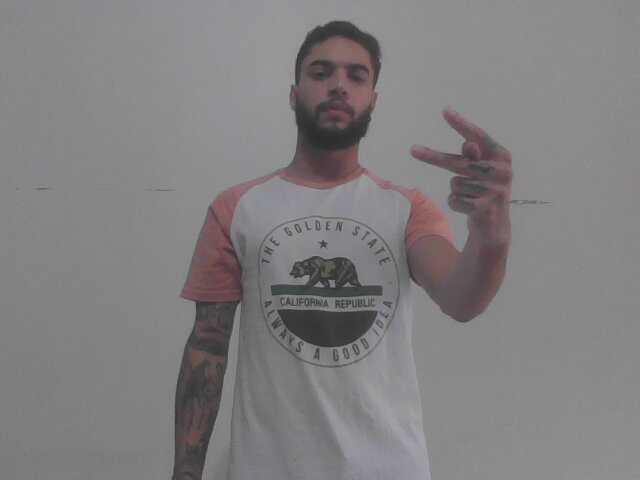h: (407, 100, 521, 245)
